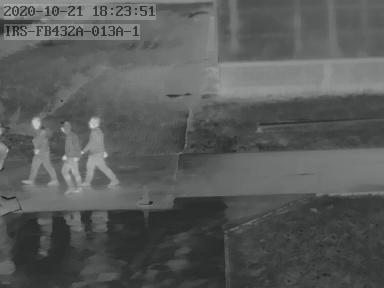person: (82, 116, 119, 187), (22, 116, 58, 186), (60, 117, 85, 194)
